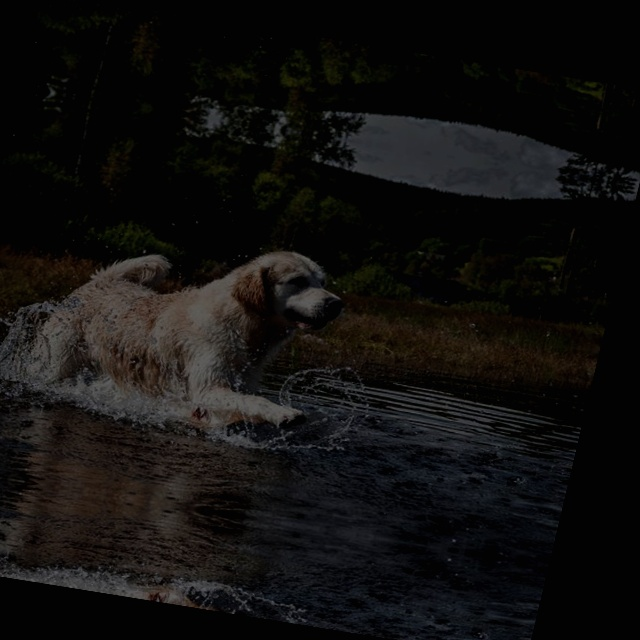dog: (32, 203, 375, 454), (0, 552, 292, 622)
